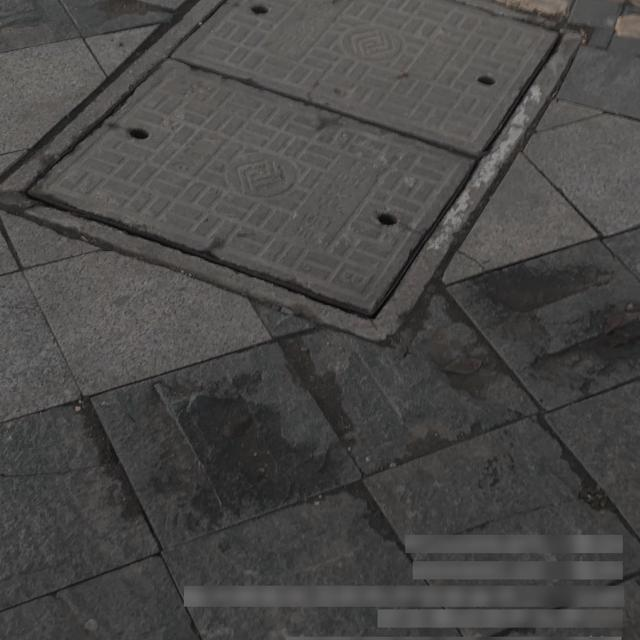good: (0, 0, 587, 344)
